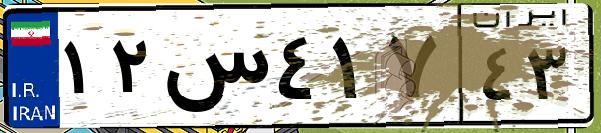1: (330, 28, 385, 110), (57, 26, 110, 100)
2: (110, 28, 158, 98)
3: (525, 38, 570, 115)
4: (270, 28, 330, 110), (475, 38, 525, 113)
7: (385, 28, 445, 110)
س: (158, 20, 270, 120)
